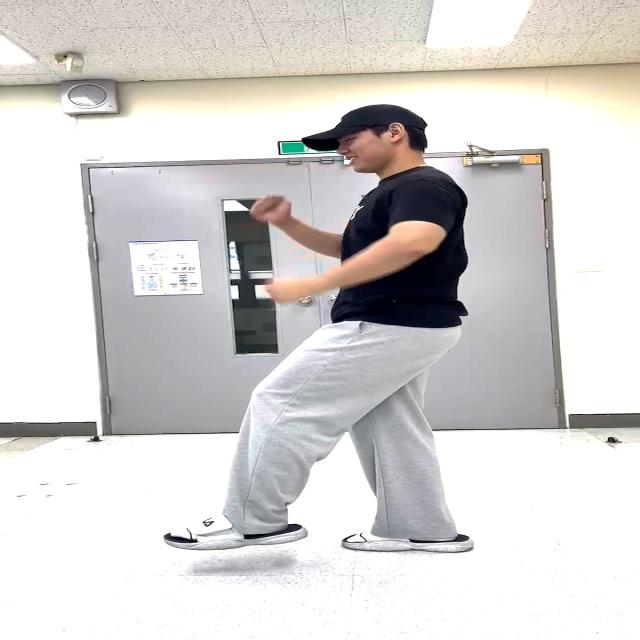leg: (152, 332, 352, 548)
